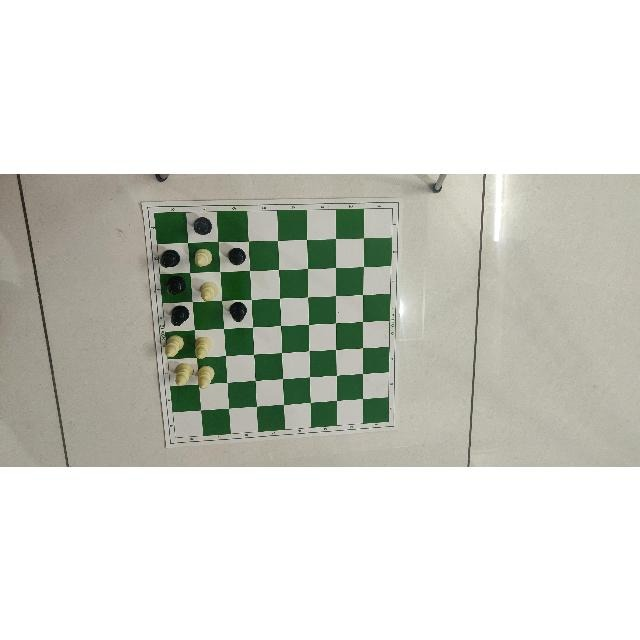black-bishop: (152, 245, 185, 271), (222, 242, 248, 270), (168, 301, 192, 327), (227, 299, 249, 325), (161, 273, 189, 293), (193, 214, 215, 237)
white-bishop: (170, 357, 195, 390), (196, 278, 223, 305), (193, 333, 217, 363), (160, 331, 186, 357), (193, 365, 219, 389), (193, 246, 215, 271)
